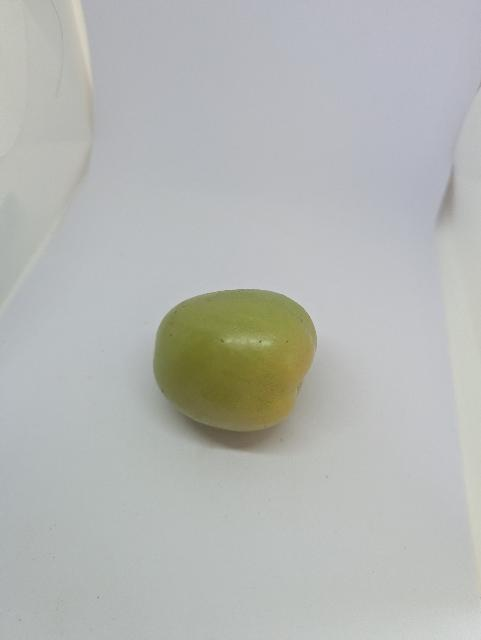green: (135, 259, 322, 472)
